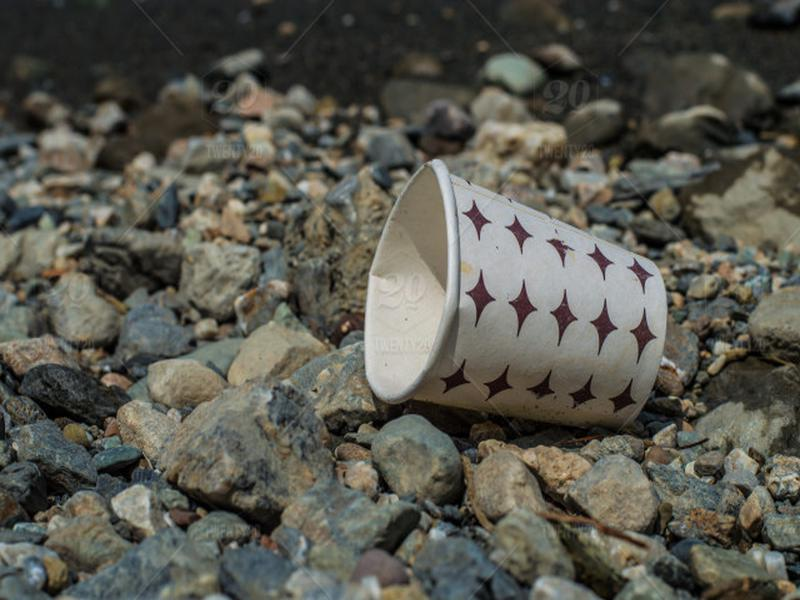cup: (346, 156, 673, 434)
